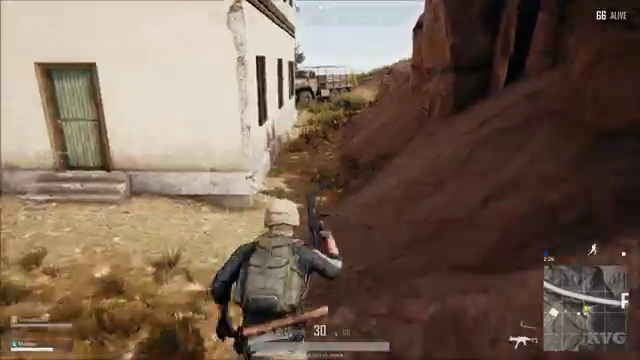Player: (197, 187, 380, 316)
